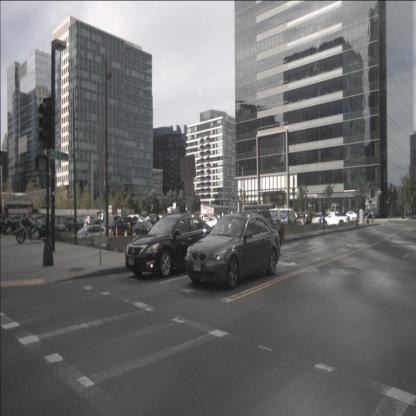human-pedestrian-adult: (320, 206, 327, 234), (364, 208, 368, 225)
movable_object-trafficcone: (115, 224, 119, 252)
vehicle-car: (184, 213, 282, 291), (125, 214, 218, 280), (68, 224, 113, 252), (131, 221, 159, 241), (101, 214, 121, 236), (199, 216, 223, 233), (280, 206, 296, 229), (269, 208, 286, 226), (58, 215, 76, 230), (128, 214, 145, 229), (47, 217, 65, 231), (122, 216, 138, 231), (311, 212, 328, 226), (68, 216, 84, 230), (340, 211, 358, 223), (302, 212, 317, 225), (160, 213, 174, 226), (296, 212, 310, 225), (146, 216, 160, 228), (208, 214, 223, 225), (82, 215, 94, 227), (98, 213, 108, 224), (92, 218, 102, 227)
vehicle-motorcycle: (16, 210, 53, 244), (0, 211, 29, 238)
vehicle-truck: (226, 208, 284, 257), (0, 200, 34, 235), (110, 216, 138, 237), (321, 212, 350, 230), (194, 213, 215, 228)
